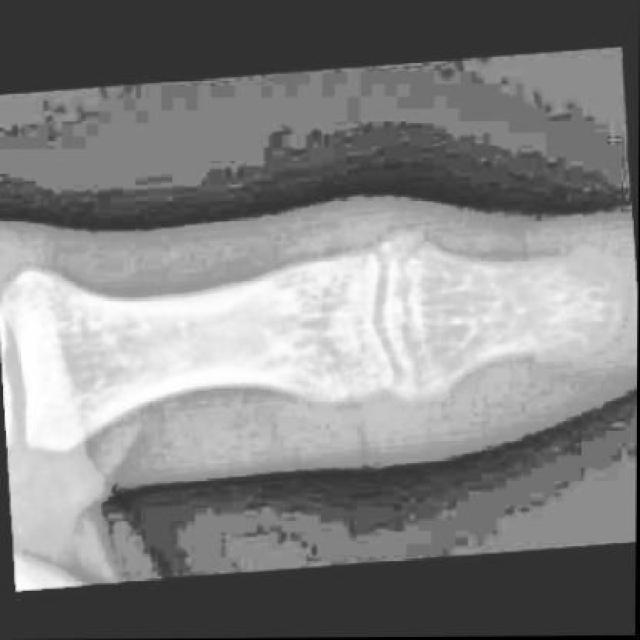Fracture: (380, 225, 441, 275)
